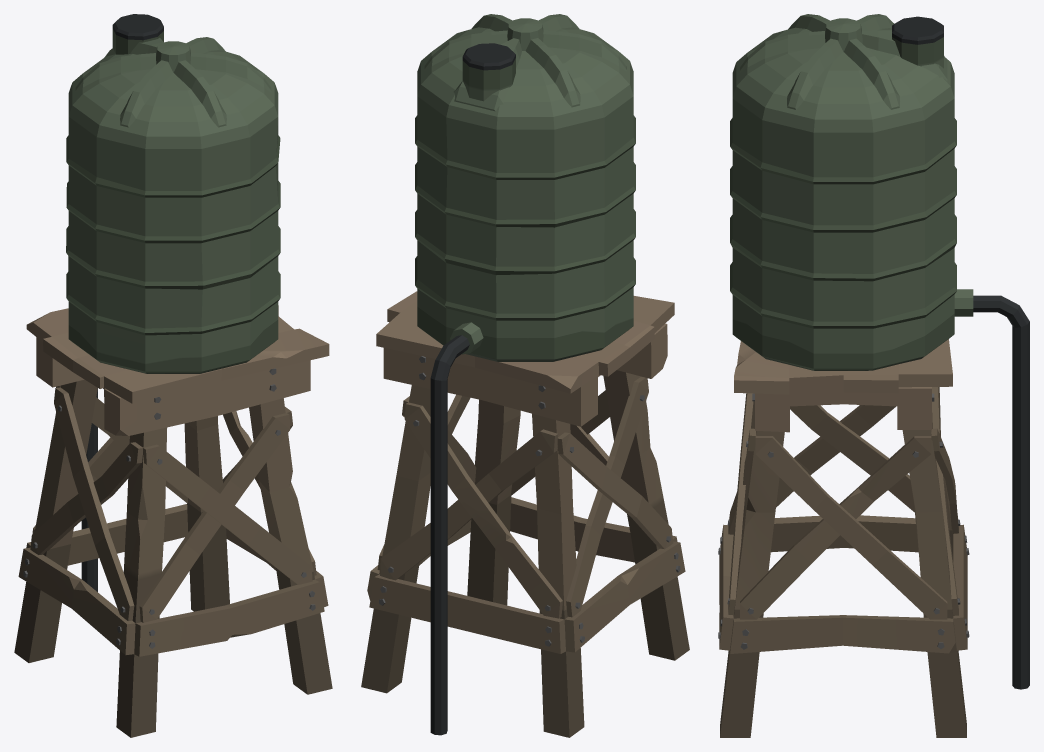
File: SM_Bld_WaterTank_01.glb
3 views of the same model, side by side, from view 1: azimuth 30°, elevation 25°; view 2: azimuth 150°, elevation 25°; view 3: azimuth 270°, elevation 25° (orthographic). The views are drawn at different scales.
Parts seen in each view (by area): view 1: SM_Bld_WaterTank_01; view 2: SM_Bld_WaterTank_01; view 3: SM_Bld_WaterTank_01.
Boxes of the visible parts, left/top/right/bottom form: SM_Bld_WaterTank_01: left=14, top=14, right=332, bottom=737; SM_Bld_WaterTank_01: left=361, top=14, right=689, bottom=737; SM_Bld_WaterTank_01: left=718, top=14, right=1029, bottom=737.
Size of the model in its own units: 2.87 by 8.06 by 3.44.
1 material, 1 textured.
